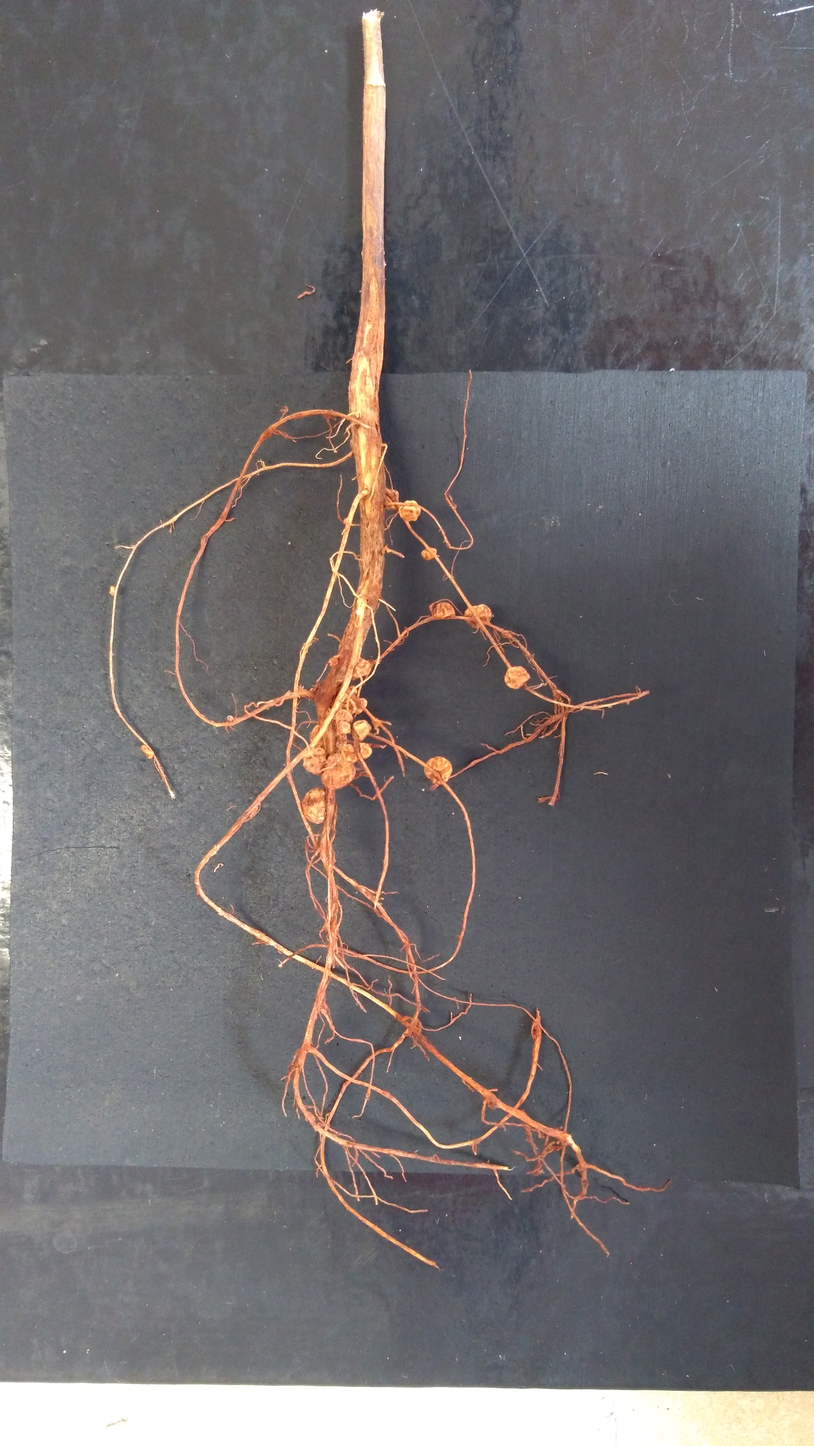nodule: (321, 754, 355, 789), (330, 686, 368, 715), (301, 787, 326, 824), (424, 756, 452, 784), (464, 604, 492, 628), (303, 747, 326, 775), (504, 666, 530, 690), (342, 743, 372, 762), (332, 709, 353, 734), (399, 500, 421, 523), (352, 658, 372, 680), (353, 719, 371, 742), (433, 602, 456, 619), (382, 489, 399, 510), (309, 723, 323, 747), (334, 732, 347, 754), (422, 548, 437, 561), (141, 745, 154, 760), (501, 630, 514, 638), (329, 657, 338, 666), (110, 586, 116, 596), (227, 715, 233, 722)
